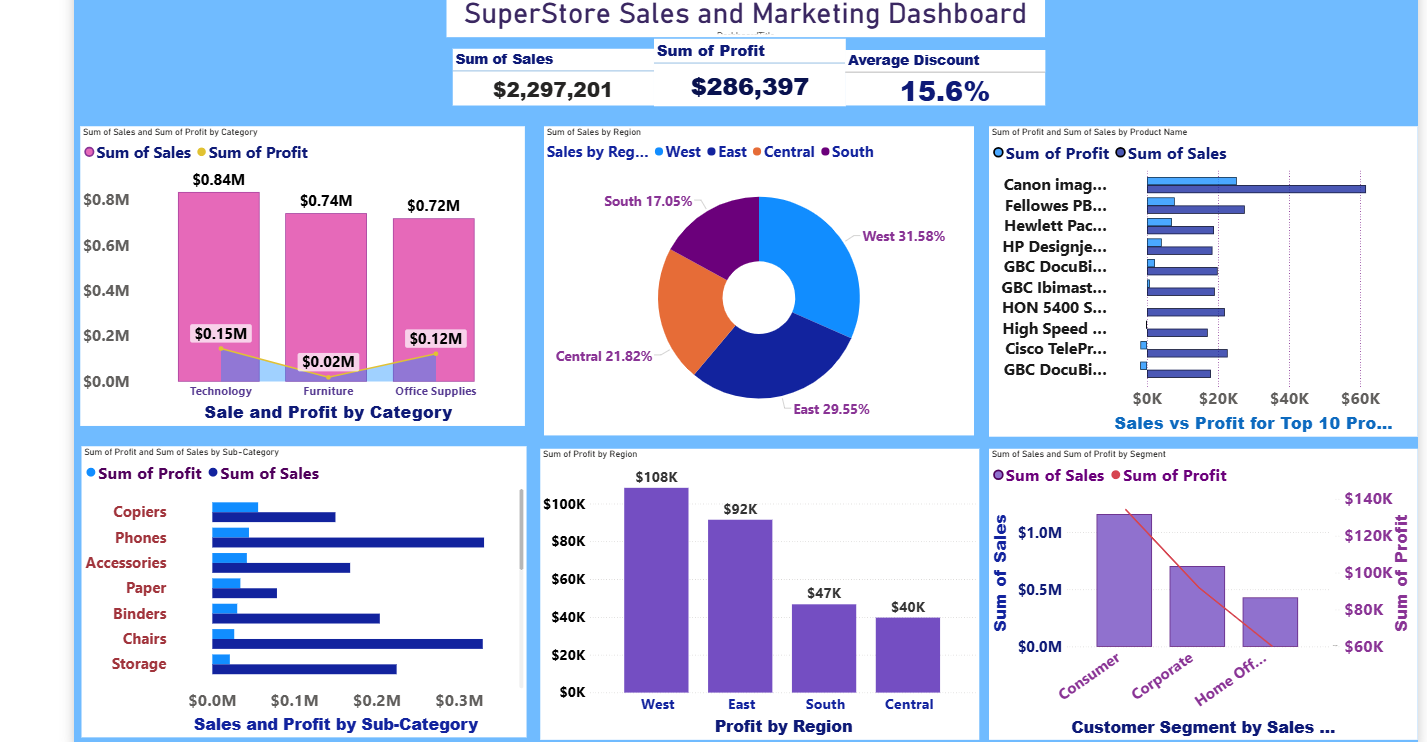

Layout of this report page (visuals, bound fields, positions):
{"tool":"powerbi","page":{"name":"Page 1","canvas":[2500,1500],"ordinal":0},"visuals":[{"type":"card","fields":{"Values":["Sample - Superstore.DashboardTitle"]},"box":[693.7,90.5,1113.4,80.4],"z":0},{"type":"card","title":"Sum of Sales","fields":{"Values":["Sum(Sample - Superstore.Sales)"]},"box":[703.8,193.5,374.5,105.6],"z":1000},{"type":"card","title":"Sum of Profit","fields":{"Values":["Sum(Sample - Superstore.Profit)"]},"box":[1078.3,173.4,356.9,125.7],"z":2000},{"type":"card","title":"Average Discount","fields":{"Values":["Avg(Sample - Superstore.Discount)"]},"box":[1435.2,196,372,103.1],"z":3000},{"type":"lineClusteredColumnComboChart","fields":{"Category":["Sample - Superstore.Category"],"Y":["Sum(Sample - Superstore.Sales)"],"Y2":["Sum(Sample - Superstore.Profit)"]},"box":[12.6,336.8,826.9,558],"z":4000},{"type":"clusteredBarChart","fields":{"Category":["Sample - Superstore.Sub-Category"],"Y":["Sum(Sample - Superstore.Profit)","Sum(Sample - Superstore.Sales)"]},"box":[13.9,933.3,827.8,541.7],"z":5000},{"type":"donutChart","fields":{"Category":["Sample - Superstore.Region"],"Y":["Sum(Sample - Superstore.Sales)"]},"box":[875,336.1,800,575],"z":6000},{"type":"clusteredColumnChart","fields":{"Category":["Sample - Superstore.Region"],"Y":["Sum(Sample - Superstore.Profit)"]},"box":[866.7,936.1,816.7,541.7],"z":7000},{"type":"clusteredBarChart","fields":{"Category":["Sample - Superstore.Product Name"],"Y":["Sum(Sample - Superstore.Profit)","Sum(Sample - Superstore.Sales)"]},"box":[1702.8,336.1,797.2,577.8],"z":8000},{"type":"lineClusteredColumnComboChart","fields":{"Category":["Sample - Superstore.Segment"],"Y":["Sum(Sample - Superstore.Sales)"],"Y2":["Sum(Sample - Superstore.Profit)"]},"box":[1702.8,936.1,797.2,541.7],"z":9000}]}

Visuals, with their boxes on the page's 2500x1500 design canvas (x1, y1, x2, y2). These are canvas units, not pixel positions in the 1427x742 screenshot, which may show the page scaled, cropped or inside an application window:
card - Sample - Superstore.DashboardTitle: [694, 90, 1807, 171]
"Sum of Sales" card: [704, 194, 1078, 299]
"Sum of Profit" card: [1078, 173, 1435, 299]
"Average Discount" card: [1435, 196, 1807, 299]
lineClusteredColumnComboChart - Sample - Superstore.Category x Sum(Sample - Superstore.Sales): [13, 337, 840, 895]
clusteredBarChart - Sample - Superstore.Sub-Category x Sum(Sample - Superstore.Profit): [14, 933, 842, 1475]
donutChart - Sample - Superstore.Region x Sum(Sample - Superstore.Sales): [875, 336, 1675, 911]
clusteredColumnChart - Sample - Superstore.Region x Sum(Sample - Superstore.Profit): [867, 936, 1683, 1478]
clusteredBarChart - Sample - Superstore.Product Name x Sum(Sample - Superstore.Profit): [1703, 336, 2500, 914]
lineClusteredColumnComboChart - Sample - Superstore.Segment x Sum(Sample - Superstore.Sales): [1703, 936, 2500, 1478]
